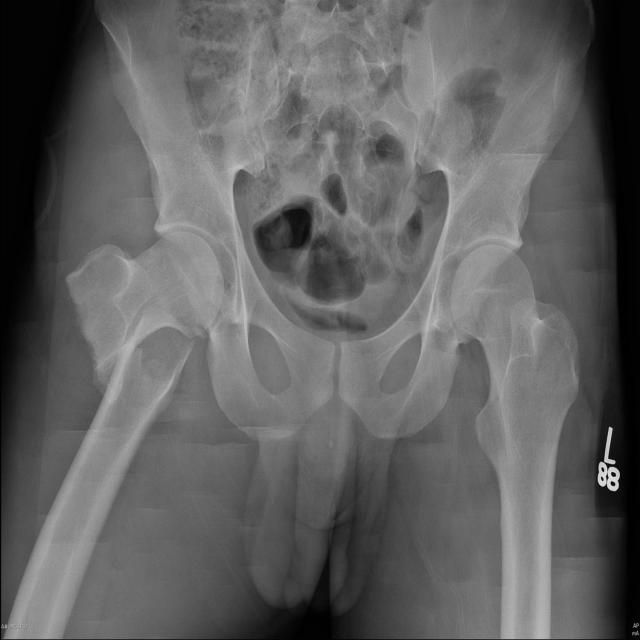normal-left: (451, 244, 580, 539)
right-subtrochanteric: (65, 231, 224, 370), (79, 304, 195, 485)
